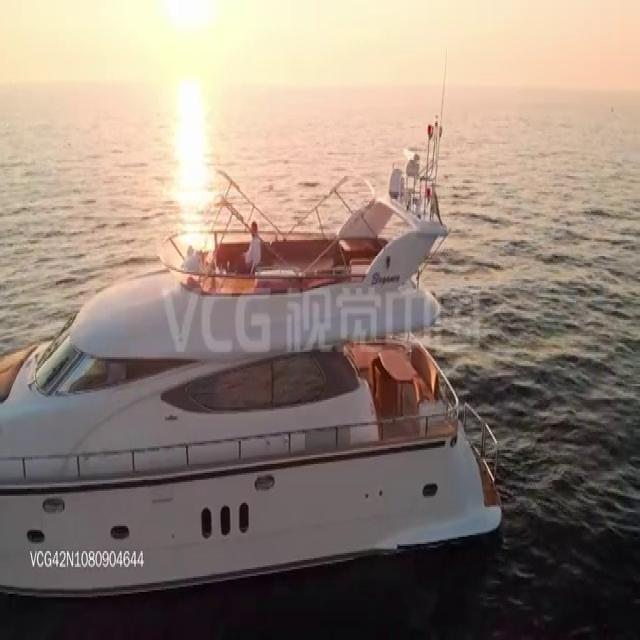houseboat: (0, 116, 506, 585)
